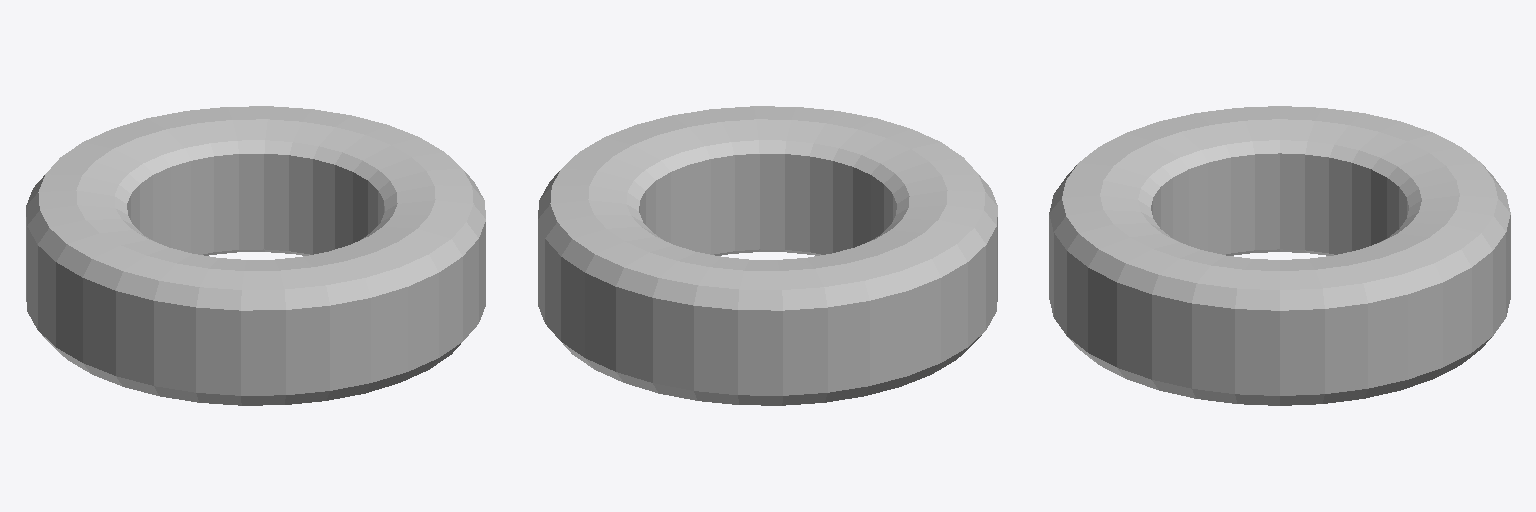
File: tyre01.obj
3 renders of one model, left to right at view 1: azimuth 30°, elevation 25°; view 2: azimuth 150°, elevation 25°; view 3: azimuth 270°, elevation 25°, orthographic.
Visible parts, largest first — view 1: Cylinder; view 2: Cylinder; view 3: Cylinder.
Part boxes in pixels (left/top/right/bottom): Cylinder: left=26, top=106, right=485, bottom=405; Cylinder: left=538, top=106, right=997, bottom=405; Cylinder: left=1049, top=106, right=1510, bottom=405.
Size of the model in its own units: 1.96 by 0.57 by 1.96.